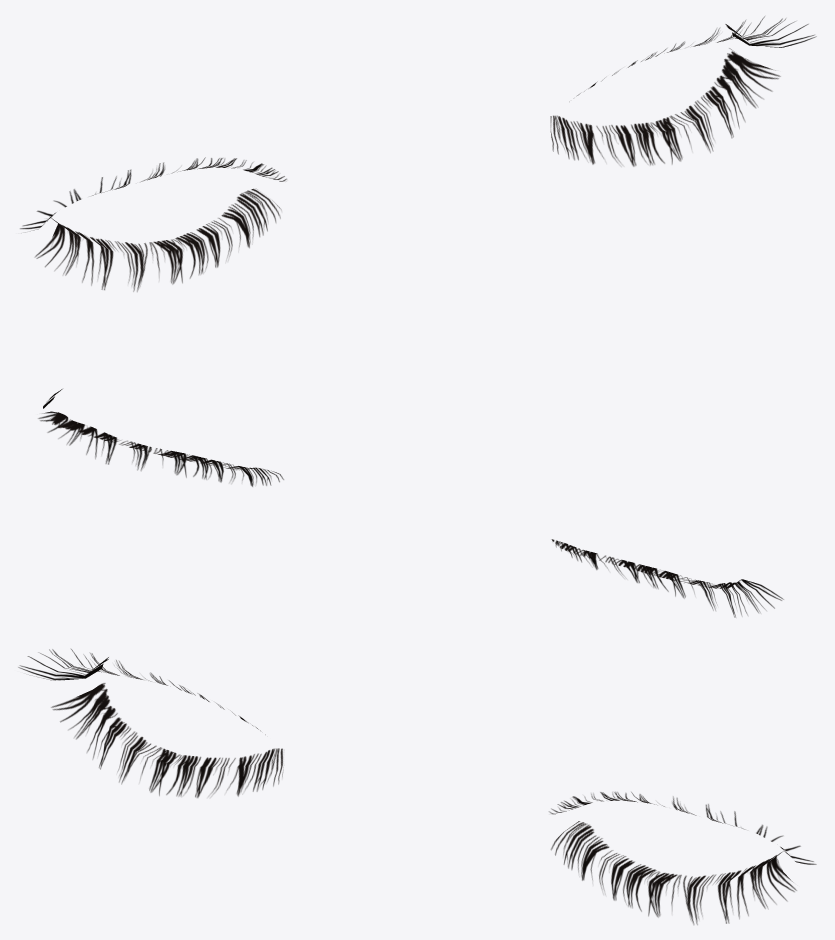
The model's file is eyelashes.glb.
3 views of the same model, one above another, from view 1: azimuth 30°, elevation 25°; view 2: azimuth 150°, elevation 25°; view 3: azimuth 330°, elevation 25° (orthographic).
Visible parts, largest first — view 1: Human.eyelashes01; view 2: Human.eyelashes01; view 3: Human.eyelashes01.
Part boxes in pixels (x1=…): Human.eyelashes01: x1=20, y1=16, x2=816, y2=291; Human.eyelashes01: x1=38, y1=389, x2=783, y2=617; Human.eyelashes01: x1=18, y1=649, x2=816, y2=924.
Size of the model in its own units: 0.0956 by 0.0159 by 0.0117.
Materials: 1 (1 with a texture image).
